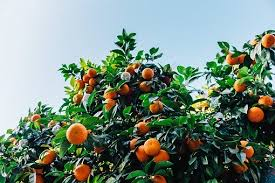orange: (65, 124, 88, 145), (142, 139, 162, 156), (247, 105, 266, 122)
